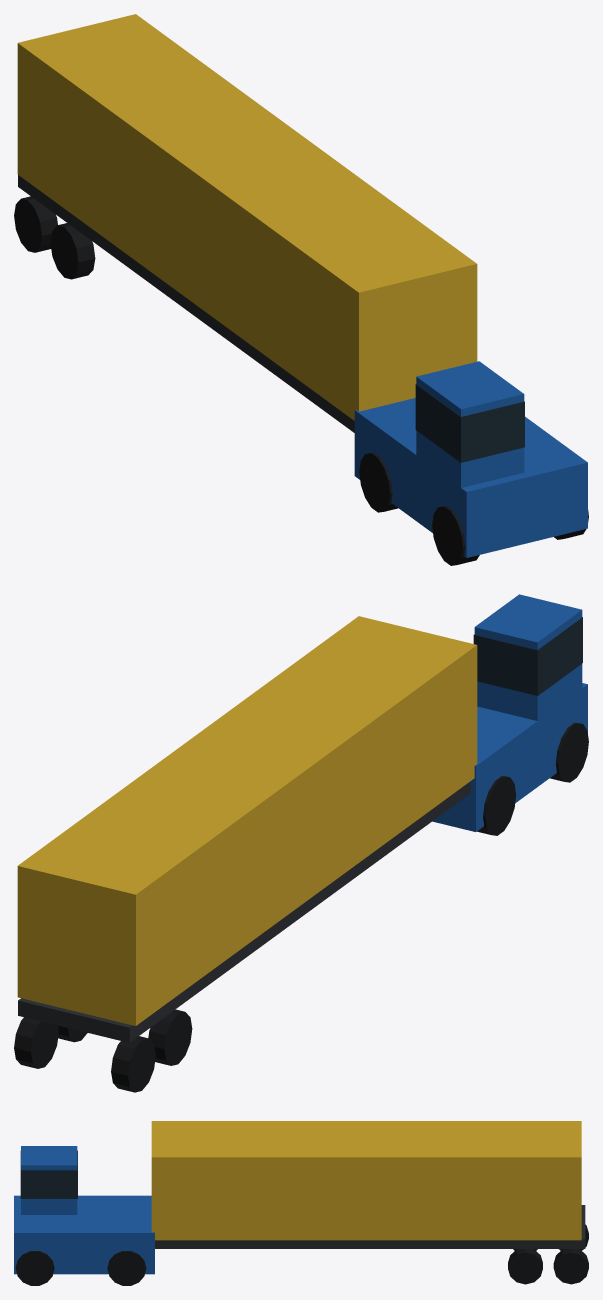
Rendered from terminal_tractor_c.glb.
The picture shows the model from 3 angles, top to bottom: view 1: azimuth 30°, elevation 25°; view 2: azimuth 150°, elevation 25°; view 3: azimuth 270°, elevation 25°; orthographic projection. The views are drawn at different scales.
Parts seen in each view (by area): view 1: tt; view 2: tt; view 3: tt.
Boxes of the visible parts, <box> form: tt: <box>14,14,588,565</box>; tt: <box>14,594,588,1092</box>; tt: <box>14,1121,588,1285</box>.
Bounding box in the file's own units: 2.6 × 3.99 × 16.3.
